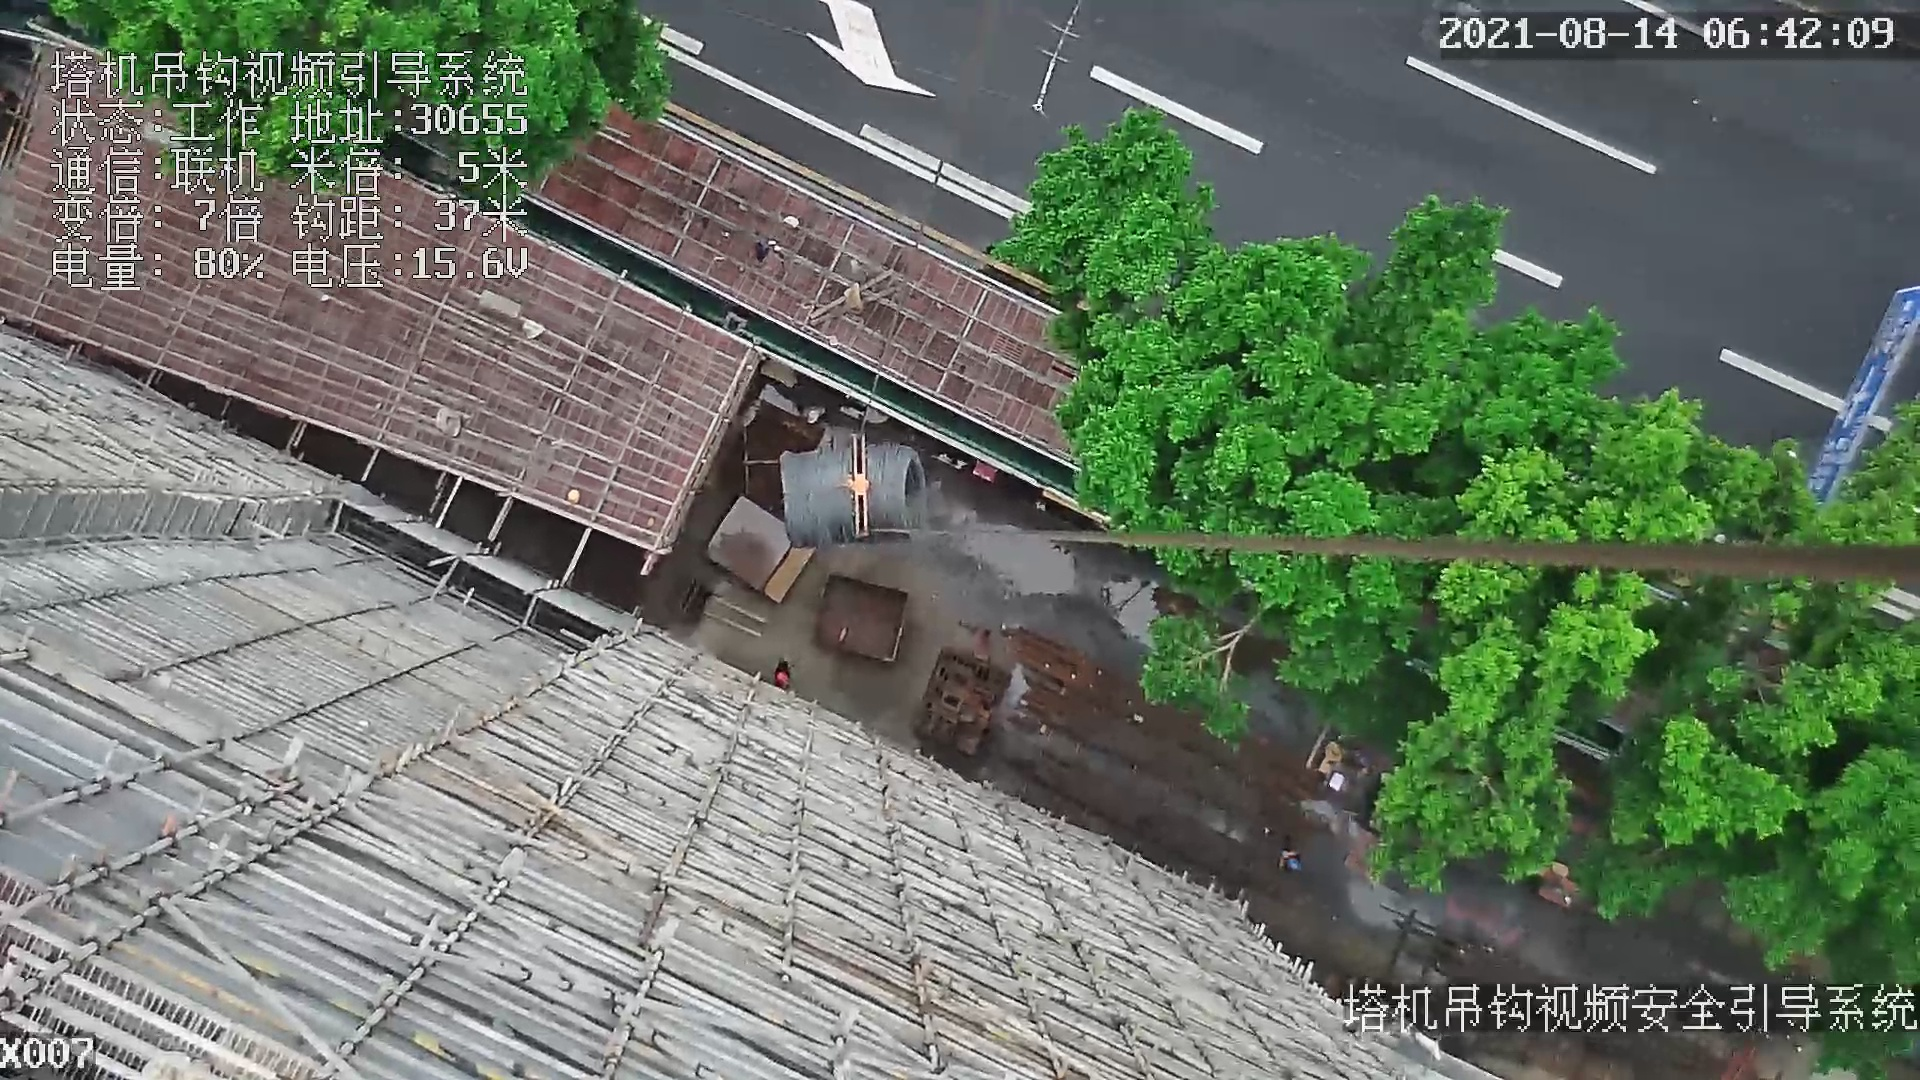hook: (836, 433, 870, 540)
person: (1274, 839, 1304, 875), (773, 656, 799, 691)
